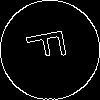F: (25, 25, 76, 64)
